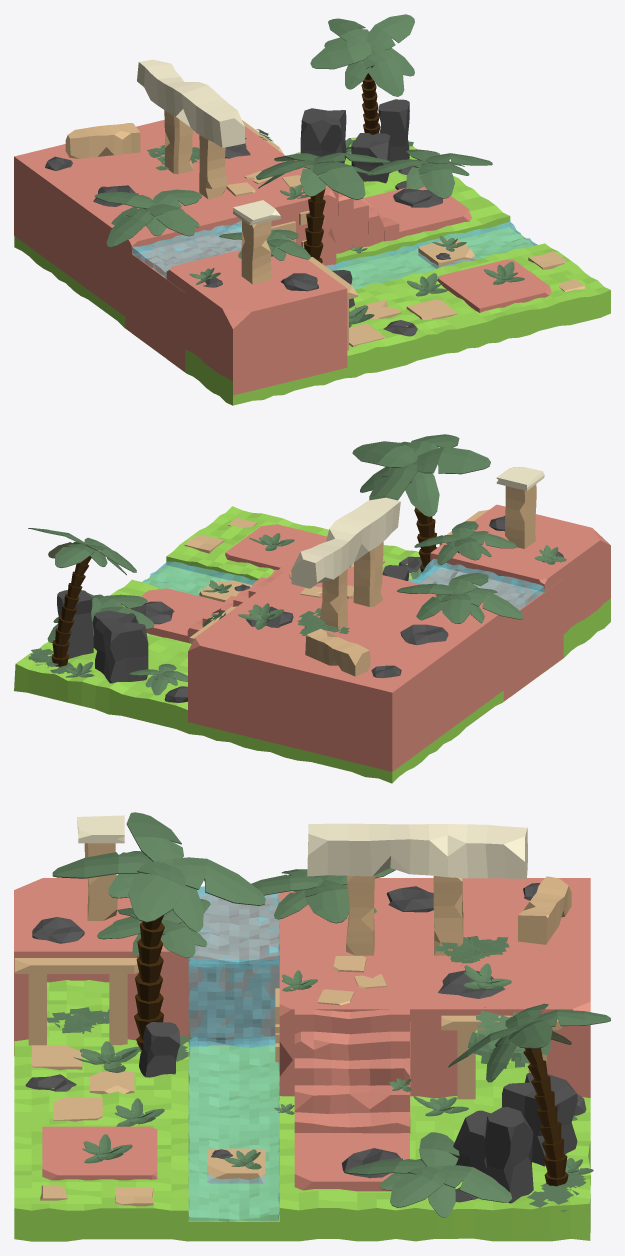
Rendered from jungle_ruins.glb.
3 renders of one model, top to bottom at view 1: azimuth 30°, elevation 25°; view 2: azimuth 150°, elevation 25°; view 3: azimuth 270°, elevation 25°, orthographic. The views are drawn at different scales.
Visible parts, largest first — view 1: Object_4, Object_6, Object_13, Object_8, Object_14, Object_9, Object_5, Object_15, Object_12, Object_7, Object_10; view 2: Object_4, Object_6, Object_13, Object_14, Object_9, Object_8, Object_15, Object_5, Object_7, Object_12, Object_10; view 3: Object_4, Object_6, Object_5, Object_13, Object_14, Object_8, Object_15, Object_9, Object_7, Object_12, Object_10, Object_11.
Boxes of the visible parts, x1=… form: Object_4: x1=14, y1=120, x2=551, y2=395; Object_6: x1=14, y1=137, x2=610, y2=405; Object_13: x1=65, y1=110, x2=585, y2=350; Object_8: x1=256, y1=14, x2=524, y2=284; Object_14: x1=45, y1=99, x2=450, y2=336; Object_9: x1=94, y1=149, x2=492, y2=260; Object_5: x1=131, y1=221, x2=537, y2=289; Object_15: x1=137, y1=59, x2=280, y2=225; Object_12: x1=303, y1=66, x2=424, y2=263; Object_7: x1=147, y1=129, x2=413, y2=196; Object_10: x1=189, y1=138, x2=447, y2=296; Object_4: x1=130, y1=504, x2=610, y2=771; Object_6: x1=14, y1=506, x2=610, y2=783; Object_13: x1=184, y1=484, x2=536, y2=676; Object_14: x1=57, y1=516, x2=563, y2=702; Object_9: x1=47, y1=521, x2=523, y2=695; Object_8: x1=28, y1=434, x2=490, y2=677; Object_15: x1=291, y1=467, x2=544, y2=588; Object_5: x1=142, y1=558, x2=544, y2=610; Object_7: x1=28, y1=441, x2=439, y2=674; Object_12: x1=51, y1=482, x2=437, y2=682; Object_10: x1=238, y1=545, x2=566, y2=629; Object_4: x1=14, y1=878, x2=590, y2=1191; Object_6: x1=14, y1=980, x2=590, y2=1241; Object_5: x1=188, y1=886, x2=279, y2=1221; Object_13: x1=14, y1=843, x2=571, y2=1206; Object_14: x1=25, y1=883, x2=586, y2=1203; Object_8: x1=52, y1=812, x2=610, y2=1174; Object_15: x1=77, y1=815, x2=527, y2=878; Object_9: x1=97, y1=868, x2=577, y2=1217; Object_7: x1=47, y1=851, x2=586, y2=1212; Object_12: x1=134, y1=915, x2=568, y2=1186; Object_10: x1=115, y1=963, x2=511, y2=1126; Object_11: x1=74, y1=1041, x2=140, y2=1072.
Bounding box in the file's own units: 11.2 × 4.69 × 10.36.
